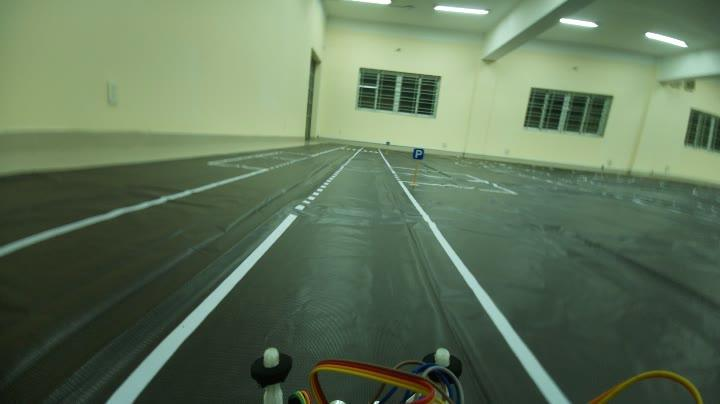parking: (409, 144, 426, 164)
